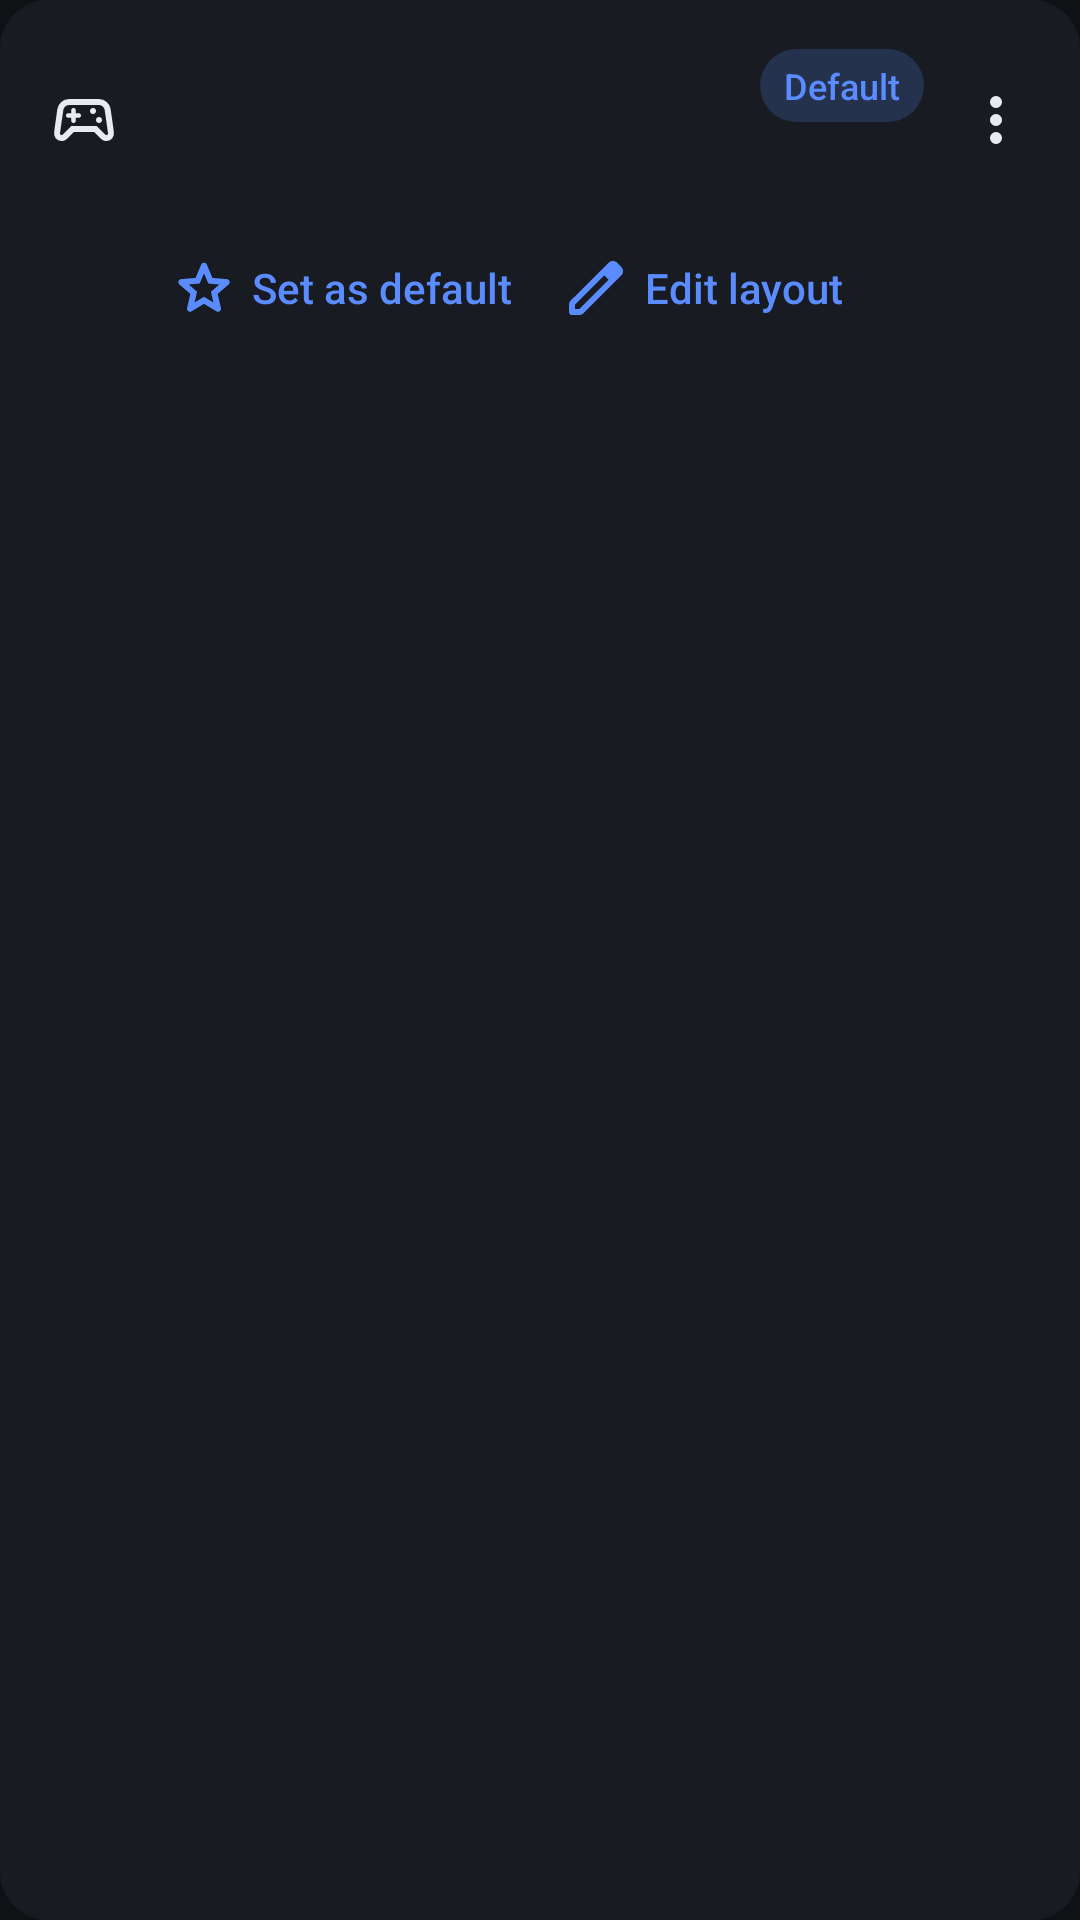

Screen size 1080x1920. Icon name, then its center in pixels as (x,y):
More options: (996,120)
thumbcast sports esports: (84,120)
